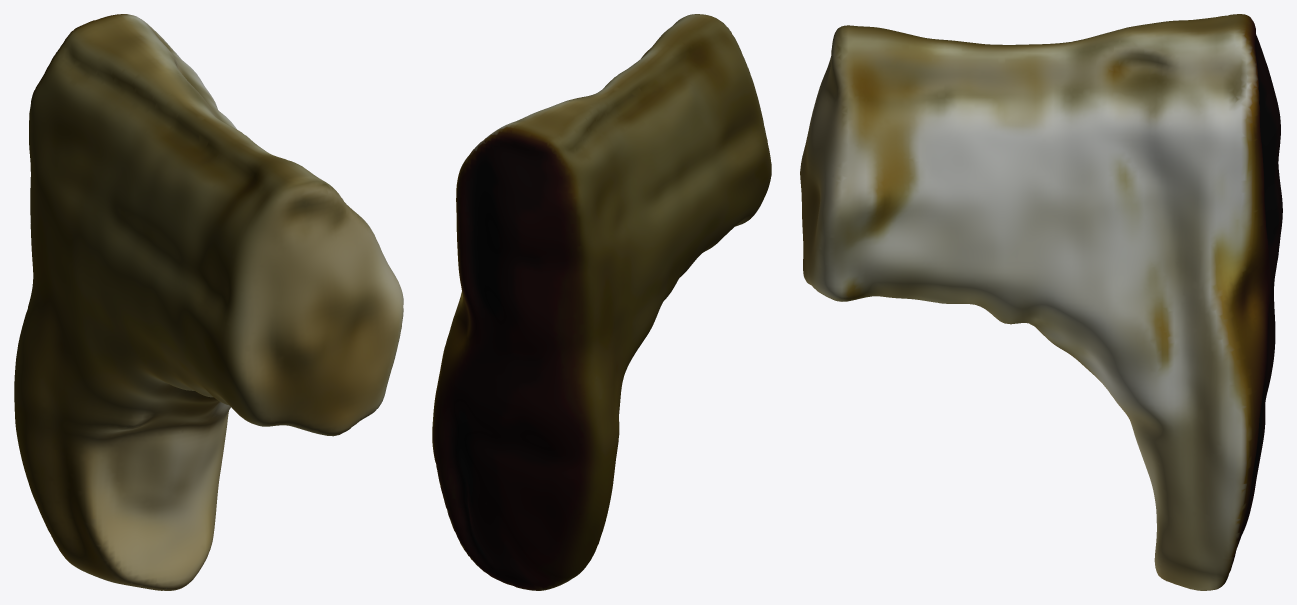
The model's file is shoe1.glb.
The picture shows the model from 3 angles, left to right: view 1: azimuth 30°, elevation 25°; view 2: azimuth 150°, elevation 25°; view 3: azimuth 270°, elevation 25°; orthographic projection. The views are drawn at different scales.
Size of the model in its own units: 0.3826 by 0.9997 by 0.7991.
